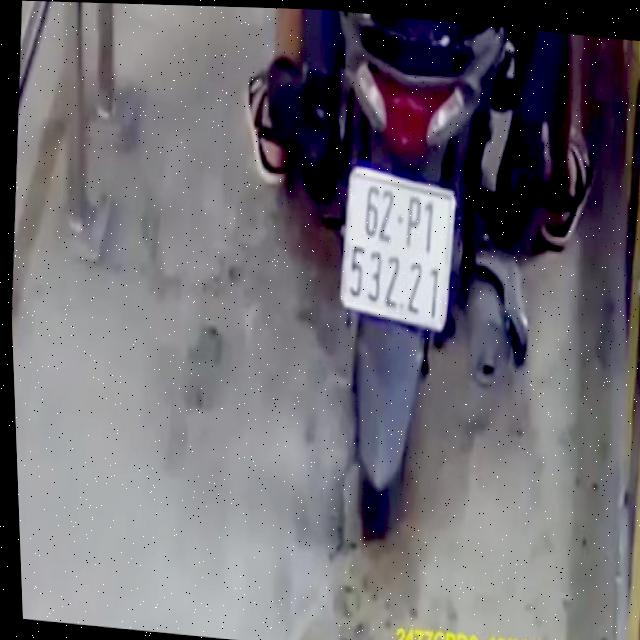motorcycle: (265, 10, 560, 556)
plate: (330, 163, 464, 334)
